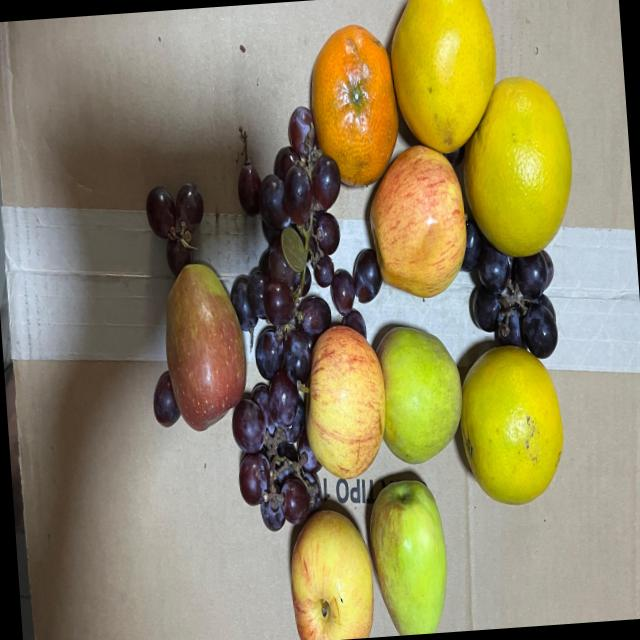moneda: (276, 229, 312, 279)
